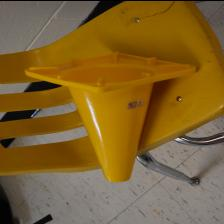cone: (23, 51, 197, 182)
